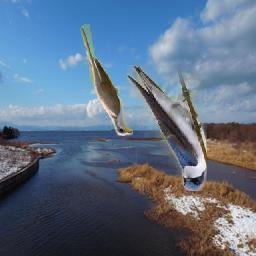Cuckoo: (79, 24, 133, 136)
Swallow: (127, 65, 207, 191)
